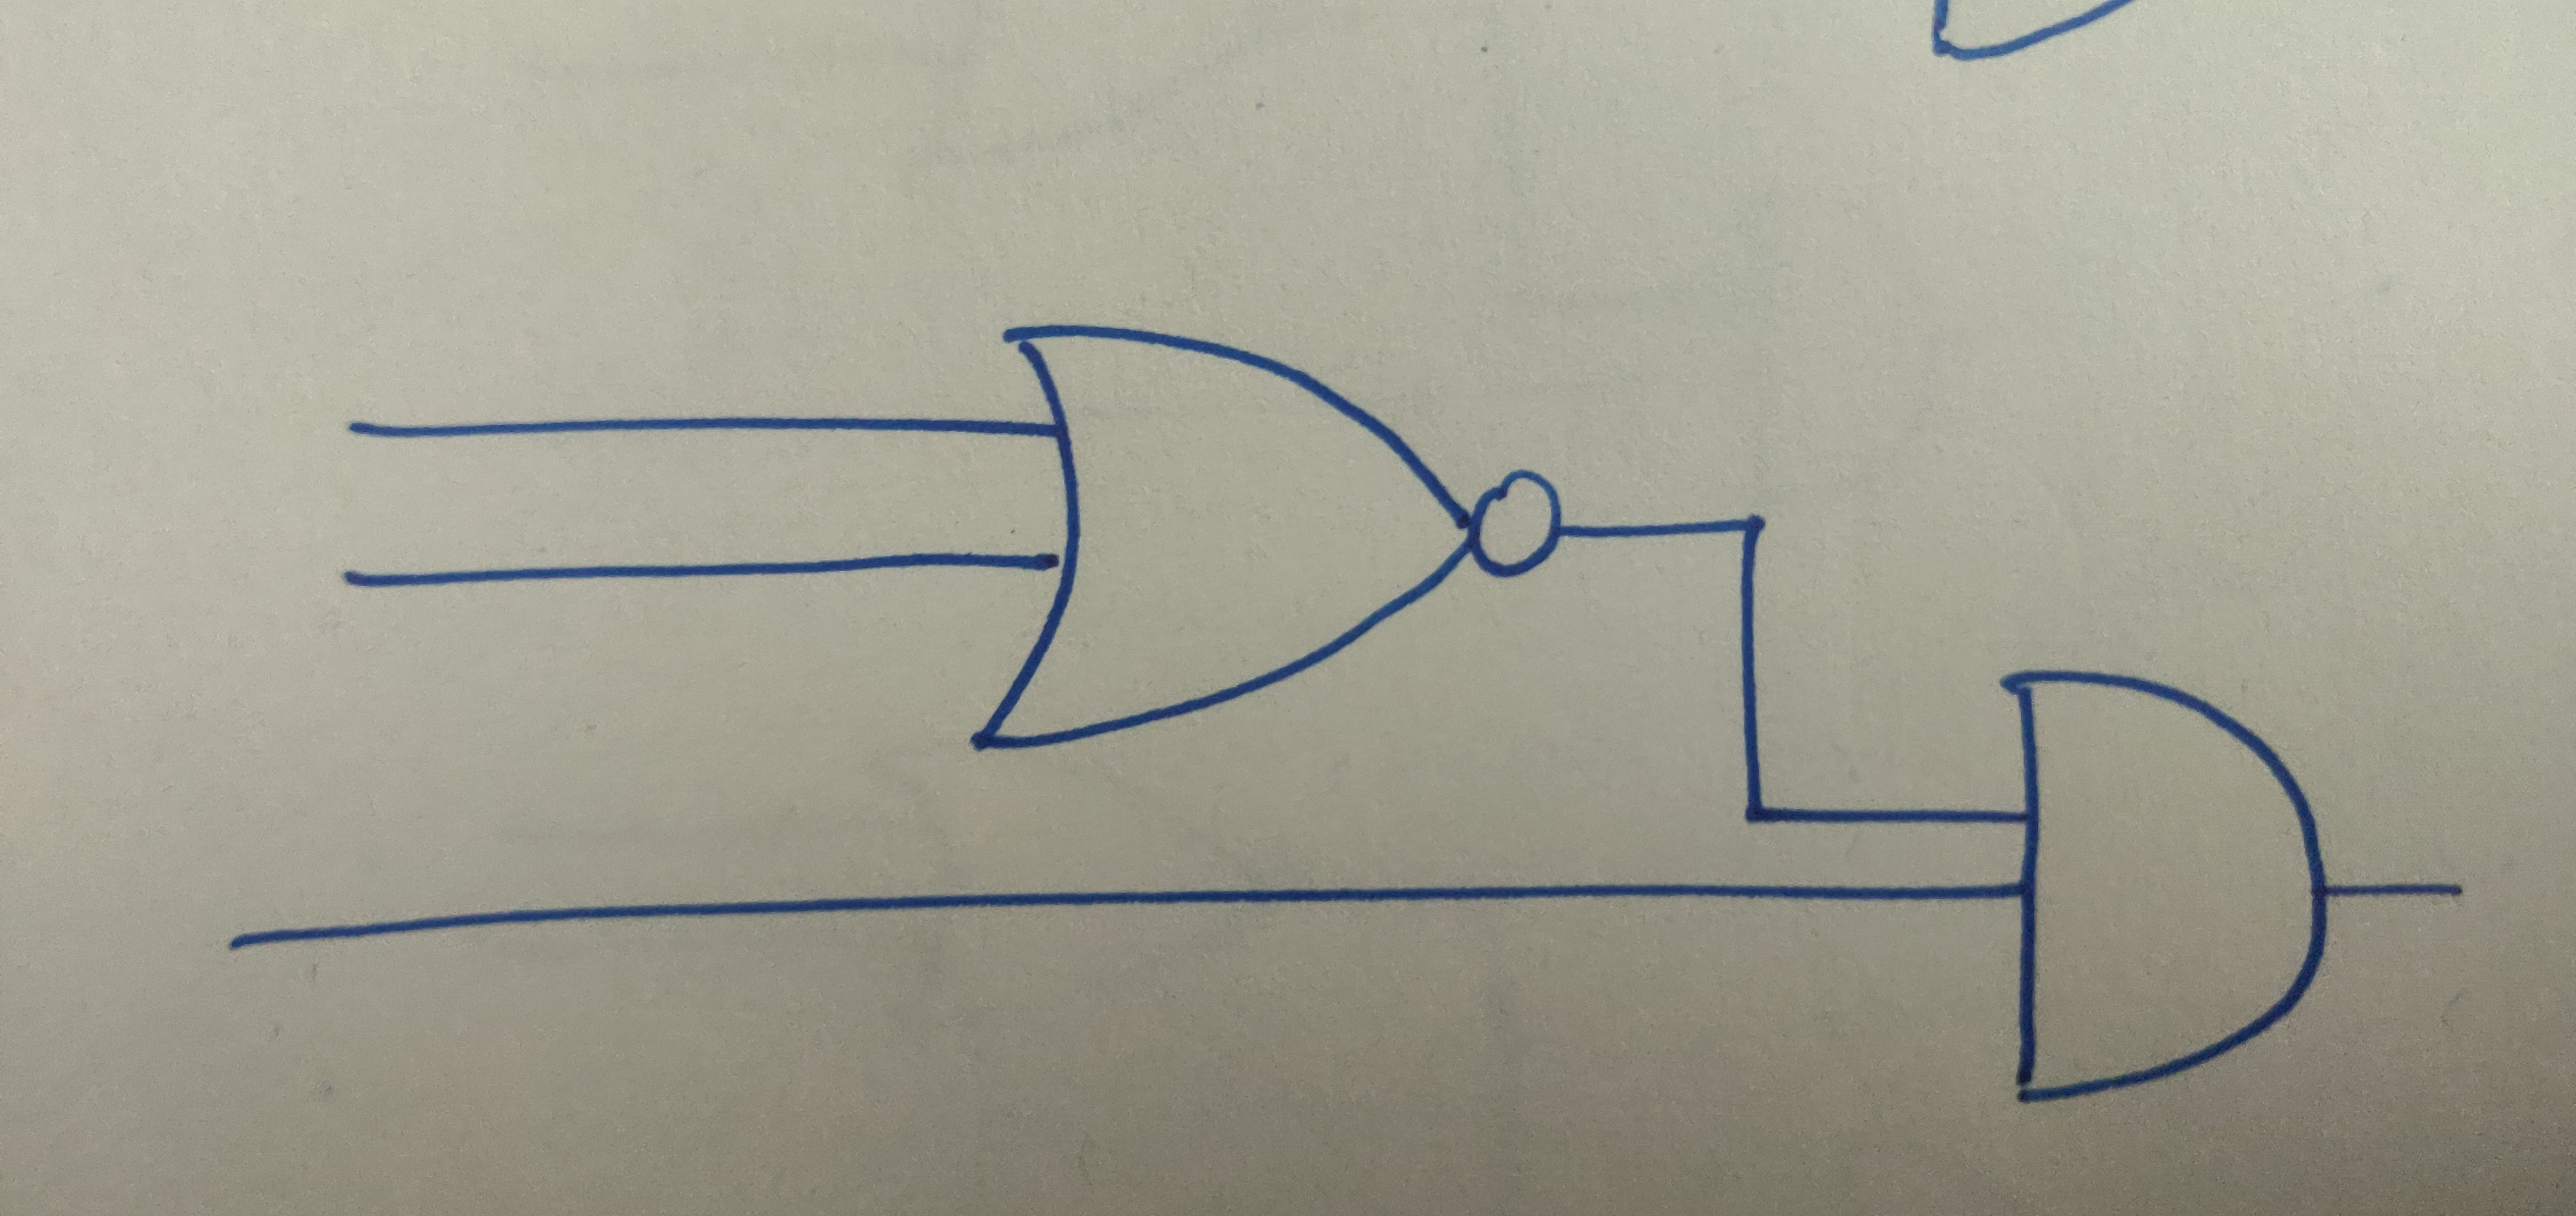and: (2001, 670, 2336, 1108)
not: (1472, 467, 1571, 585)
or: (973, 309, 1482, 756)
